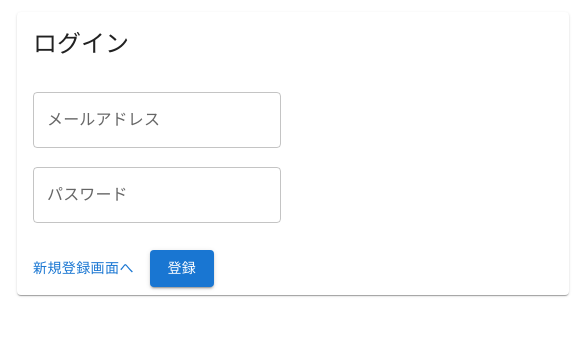
Test: TalkRoomListItem › loginEmail › 正しくない形式でエラー
This screenshot has width=587, height=353.
In the field with test id "loginEmail": (157, 120) [33,92,281,148], type "hogehoge"
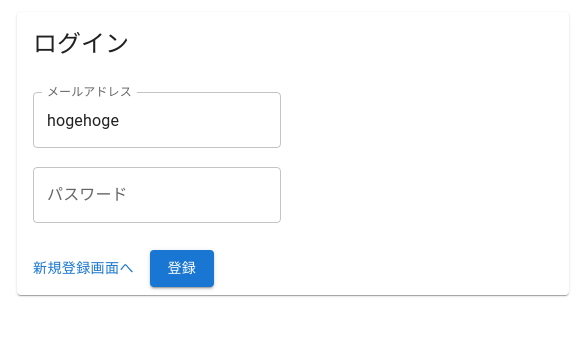
Click the button with test id "submitBtn": (182, 268) [150,250,214,286]
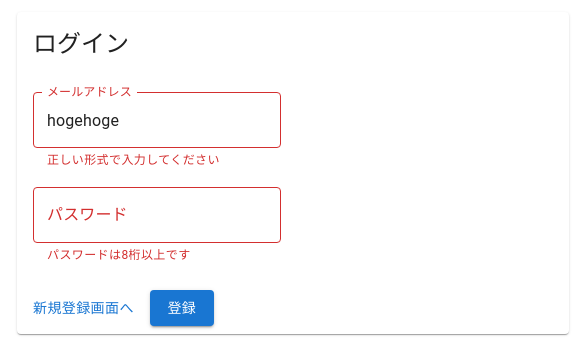
Now the text with test id "loginEmailErr" reads "正しい形式で入力してください", box [47,153,220,167]
